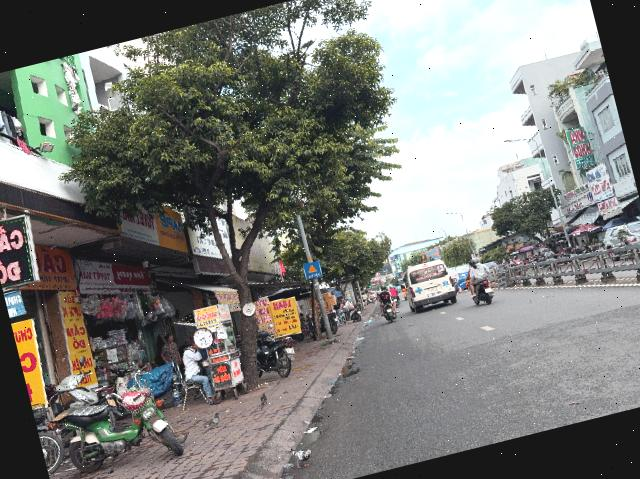khu-vuc-cho-phia-truoc: (303, 261, 323, 280)
